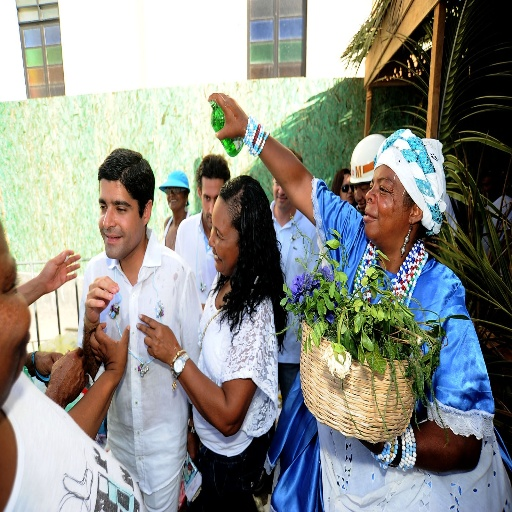hand: (7, 241, 80, 338), (48, 344, 95, 405), (134, 309, 179, 368), (88, 323, 131, 376), (205, 90, 248, 139), (83, 273, 120, 326), (38, 247, 81, 290), (32, 346, 64, 379), (357, 439, 385, 454)
